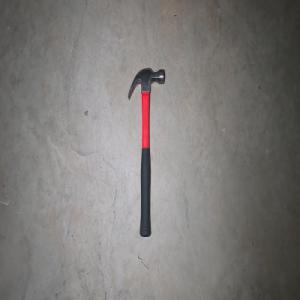Hammer: (127, 66, 165, 238)
